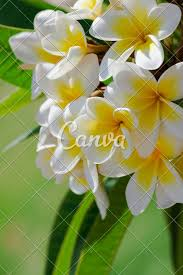frangipani: (75, 99, 137, 166)
